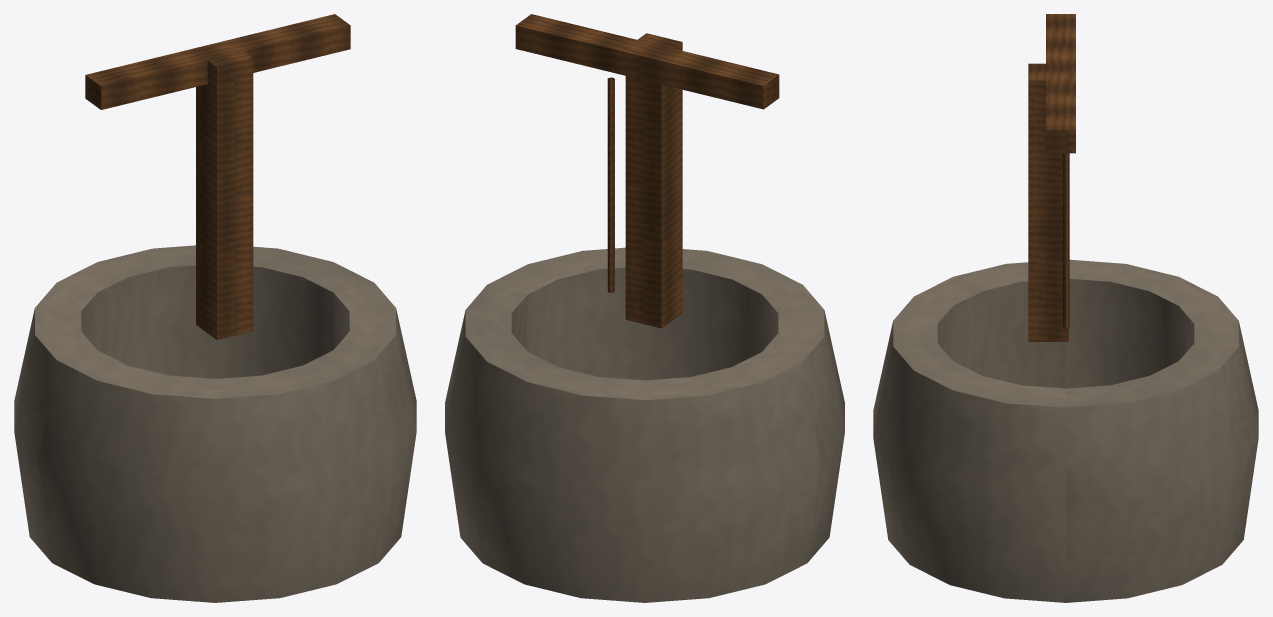
The model's file is SM_Well.fbx.
The picture shows the model from 3 angles, left to right: view 1: azimuth 30°, elevation 25°; view 2: azimuth 150°, elevation 25°; view 3: azimuth 270°, elevation 25°; orthographic projection. The views are drawn at different scales.
Visible parts, largest first — view 1: SM_Well; view 2: SM_Well; view 3: SM_Well.
Part boxes in pixels (x1,y1,x2,y2): SM_Well: (14,14,416,602); SM_Well: (445,14,844,602); SM_Well: (873,14,1258,602).
Bounding box in the file's own units: 156 × 200 × 154.
